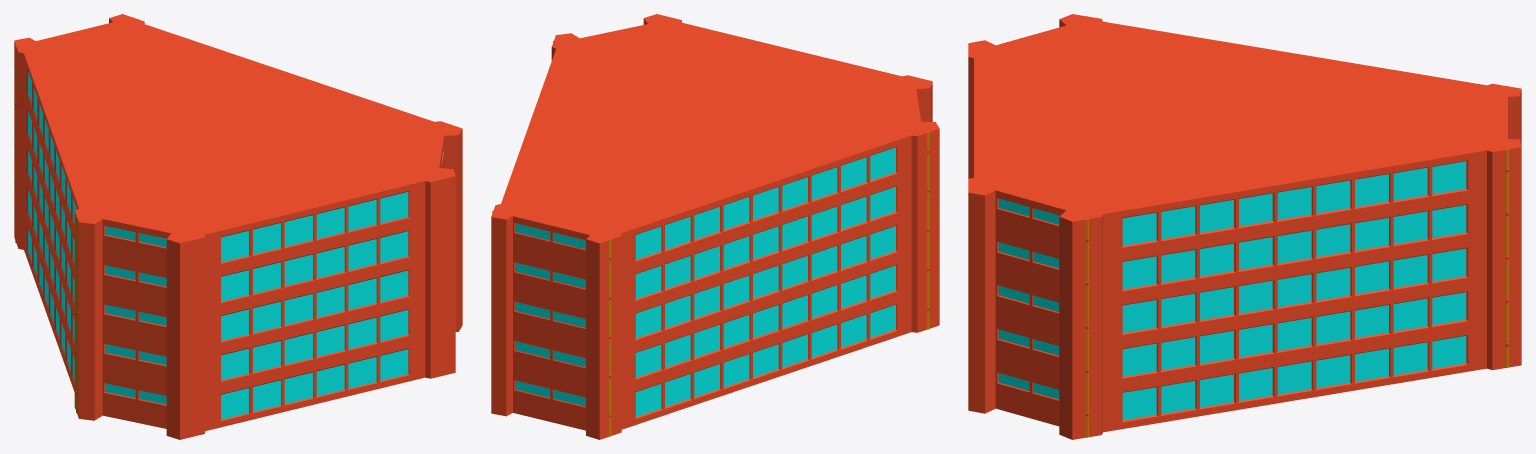
File: SM_Skyscraper_C_Floor_City.fbx
3 views of the same model, side by side, from view 1: azimuth 30°, elevation 25°; view 2: azimuth 150°, elevation 25°; view 3: azimuth 270°, elevation 25° (orthographic). The views are drawn at different scales.
Parts seen in each view (by area): view 1: SM_Skyscraper_C_Floor_City; view 2: SM_Skyscraper_C_Floor_City; view 3: SM_Skyscraper_C_Floor_City.
Boxes of the visible parts, x1,y1,x2,y2 form: SM_Skyscraper_C_Floor_City: (14,14,462,439); SM_Skyscraper_C_Floor_City: (491,14,939,439); SM_Skyscraper_C_Floor_City: (968,14,1521,439).
Size of the model in its own units: 30.64 by 15 by 34.49.
